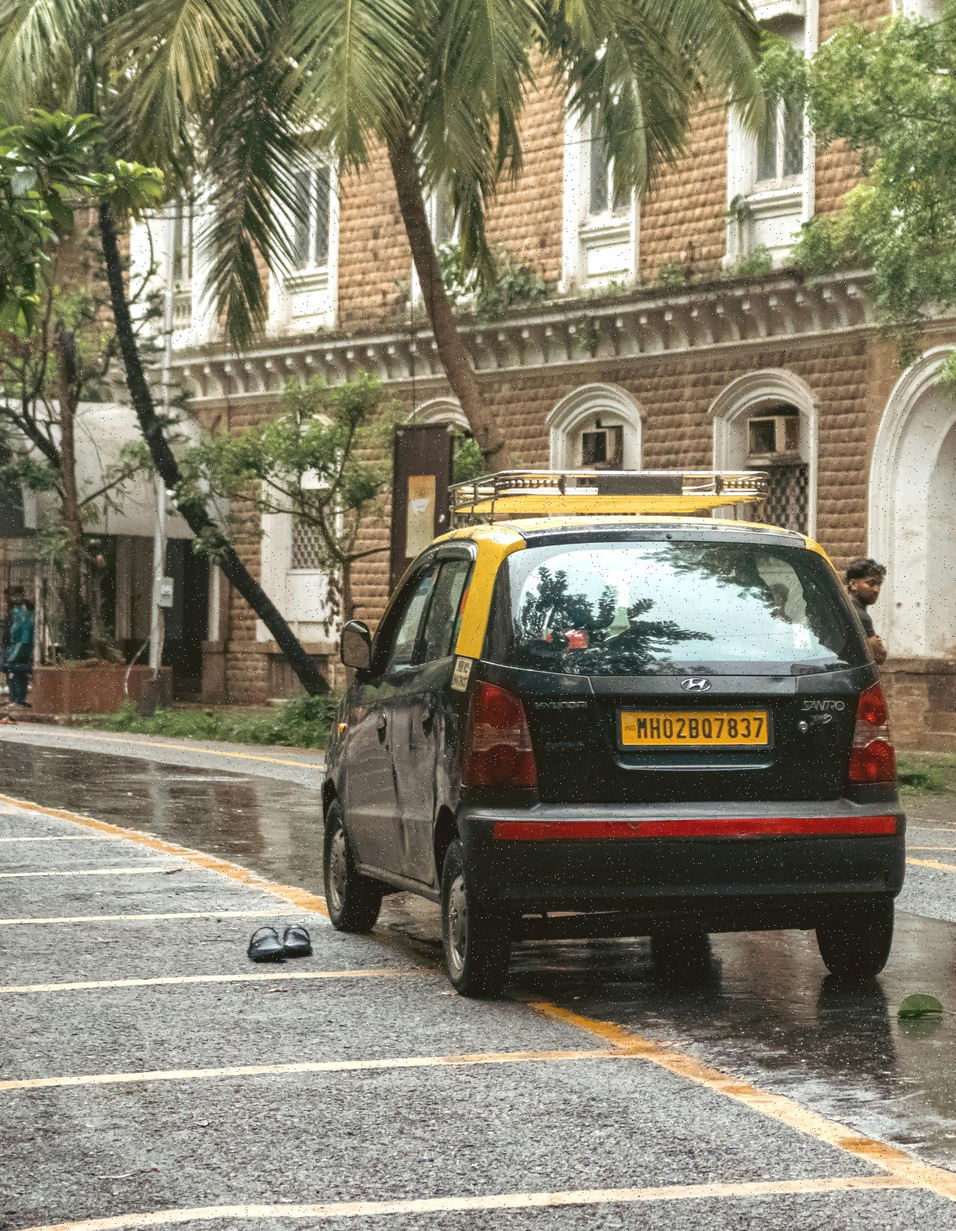car: (302, 467, 853, 998)
pedestrian: (843, 558, 888, 660), (2, 602, 33, 708)
